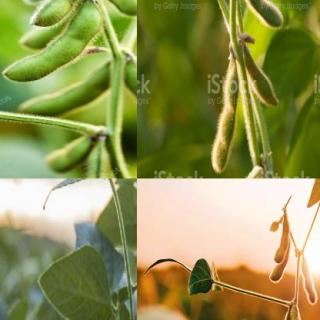soya: (2, 2, 102, 82), (19, 62, 112, 115), (211, 64, 237, 174), (244, 46, 279, 107), (30, 0, 88, 27), (236, 0, 286, 30), (19, 25, 60, 50), (301, 255, 317, 304), (273, 214, 289, 262), (268, 264, 288, 284), (290, 305, 307, 319)
